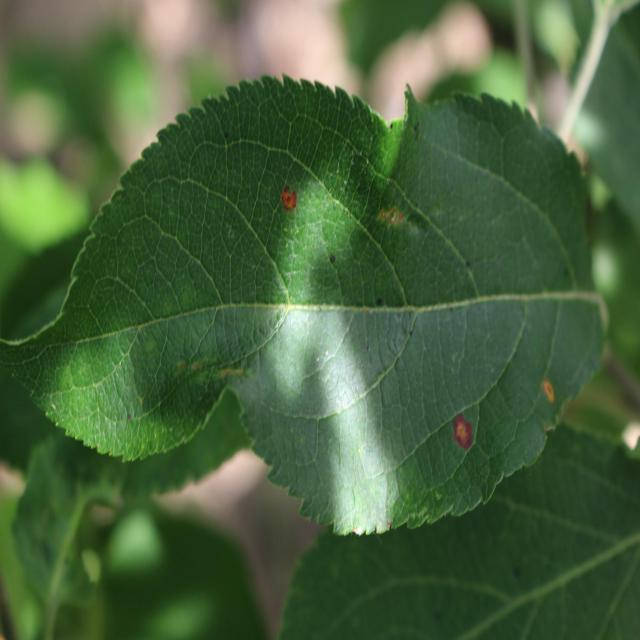Rust: (444, 408, 484, 453), (372, 192, 411, 236), (536, 366, 560, 414), (276, 185, 302, 220)
